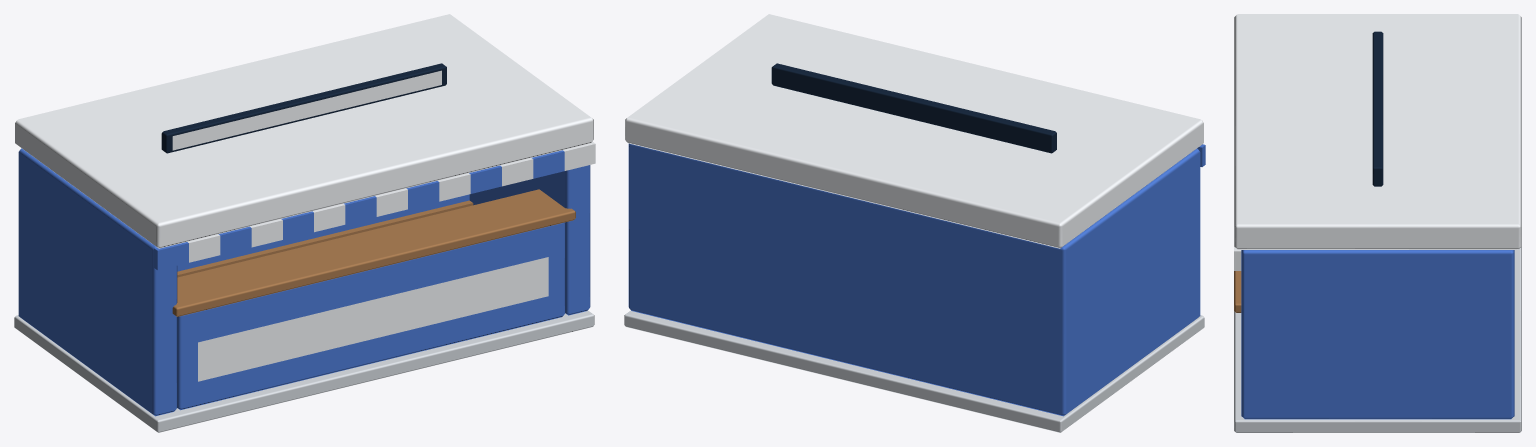
The model's file is CM_Prop_PlazaKiosk_Blue.fbx.
3 renders of one model, left to right at view 1: azimuth 30°, elevation 25°; view 2: azimuth 150°, elevation 25°; view 3: azimuth 270°, elevation 25°, orthographic.
Visible parts, largest first — view 1: Body, Face; view 2: Body, Face; view 3: Body, Face.
Part boxes in pixels (bbox=[...]): Body: bbox=[14, 14, 595, 432]; Face: bbox=[161, 63, 446, 153]; Body: bbox=[624, 14, 1205, 432]; Face: bbox=[771, 63, 1056, 153]; Body: bbox=[1234, 14, 1521, 432]; Face: bbox=[1372, 31, 1383, 186].
Bounding box in the file's own units: 14 × 8 × 7.
1 material, 1 textured.
